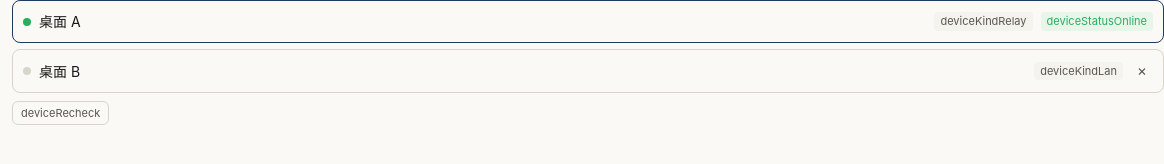
DeviceList 移除配对 › DeviceList_PendingClearedWhenItemRemoved_005
The image size is (1164, 164).
Click the button with class "device-remove".
click(1142, 71)  # box [1131,60,1153,82]
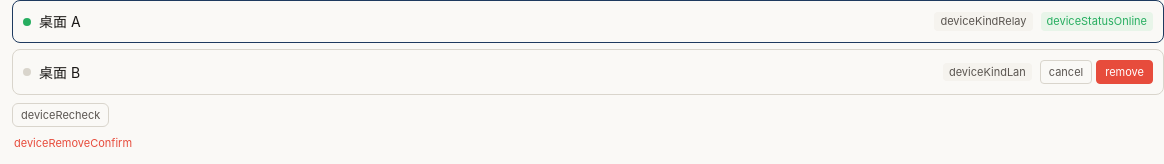
Check: the element with class "device-confirm" is shown, box [1040,60,1153,84]
